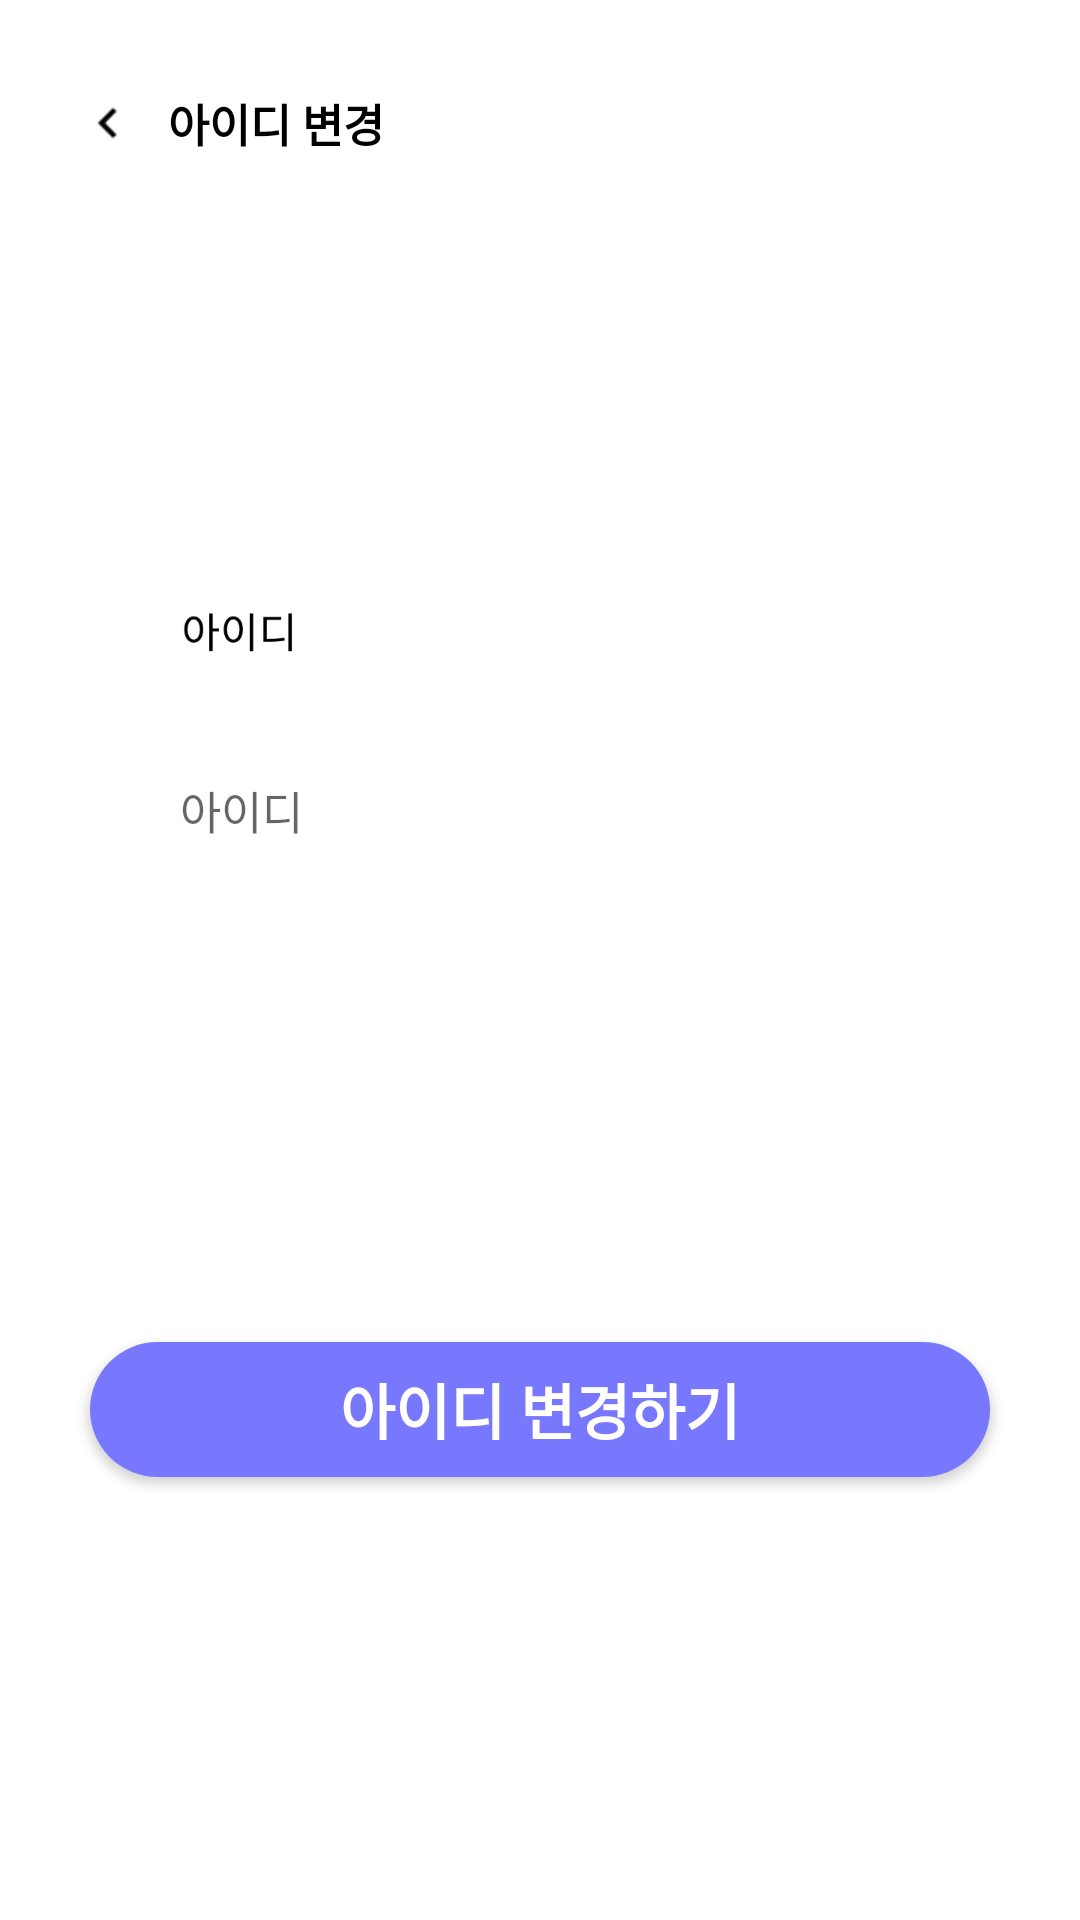

Named icons in this screenshot (1080px×1920px) and their centers, (x=x, y=y):
iconblackleft: (x=107, y=123)
